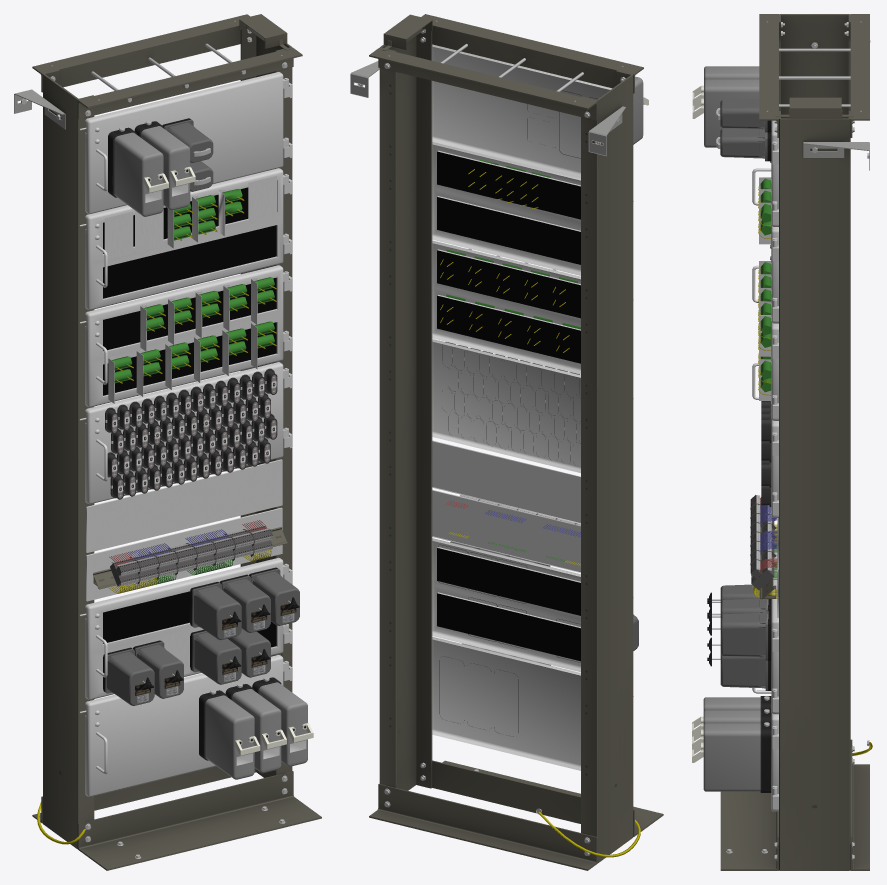
File: stativ220.fbx
3 views of the same model, side by side, from view 1: azimuth 30°, elevation 25°; view 2: azimuth 150°, elevation 25°; view 3: azimuth 270°, elevation 25° (orthographic).
Visible parts, largest first — view 1: pan_low.006, cabinet_stativ220, fpm.002_low.005, fpm.002_low.006, glass.005_low.014, Plane.044, kolodka2_low.004, Plane.066, fuse_blok.001, glass.005_low.010, fuse_blok.005, fuse_blok.012 (+15 smaller); view 2: cabinet_stativ220, pan_low.006, fpm.002_low.006; view 3: cabinet_stativ220, pan_low.006, fpm.002_low.005, glass.005_low.014, glass.005_low.013, fpm.002_low.006, kolodka2_low.004, fpm.003_low.005, glass.005_low.012, Plane.066, Plane.044, Plane.043 (+1 smaller).
Boxes of the visible parts, <box> form: pan_low.006: <box>79,72,292,796</box>; cabinet_stativ220: <box>14,14,321,870</box>; fpm.002_low.005: <box>205,682,307,779</box>; fpm.002_low.006: <box>114,126,190,216</box>; glass.005_low.014: <box>192,569,299,640</box>; Plane.044: <box>108,321,276,403</box>; kolodka2_low.004: <box>110,525,272,586</box>; Plane.066: <box>140,277,276,351</box>; fuse_blok.001: <box>107,371,277,433</box>; glass.005_low.010: <box>105,641,183,705</box>; fuse_blok.005: <box>107,416,277,478</box>; fuse_blok.012: <box>113,440,270,499</box>; cabinet_stativ220: <box>350,14,663,870</box>; pan_low.006: <box>432,44,633,770</box>; fpm.002_low.006: <box>633,76,643,144</box>; cabinet_stativ220: <box>720,14,872,870</box>; pan_low.006: <box>752,120,778,811</box>; fpm.002_low.005: <box>703,697,760,791</box>; glass.005_low.014: <box>720,584,767,660</box>; glass.005_low.013: <box>720,98,767,161</box>; fpm.002_low.006: <box>704,66,759,147</box>; kolodka2_low.004: <box>750,495,776,590</box>; fpm.003_low.005: <box>692,696,771,792</box>; glass.005_low.012: <box>720,654,767,690</box>; Plane.066: <box>758,261,771,359</box>; Plane.044: <box>758,301,771,403</box>; Plane.043: <box>758,202,771,246</box>.
Size of the model in its own units: 73.83 by 213 by 45.8.
